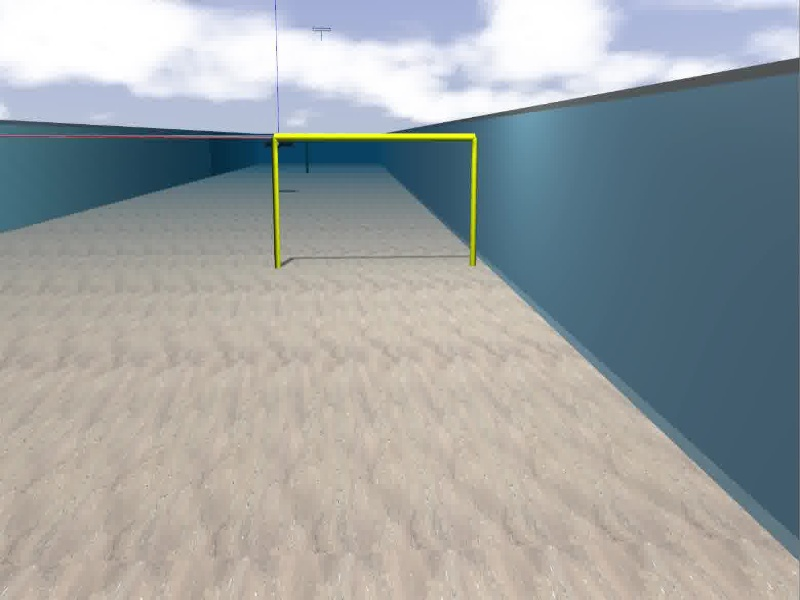gate: (271, 133, 478, 268)
